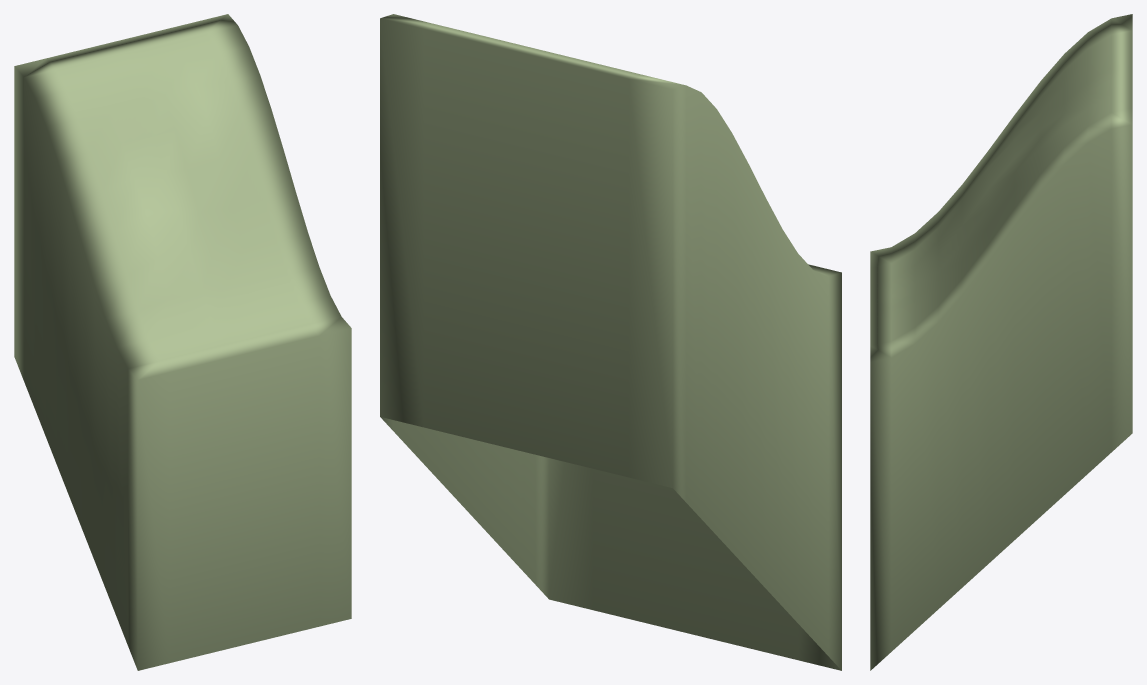
File: ground-ramp-01.glb
The picture shows the model from 3 angles, left to right: view 1: azimuth 30°, elevation 25°; view 2: azimuth 150°, elevation 25°; view 3: azimuth 270°, elevation 25°; orthographic projection. The views are drawn at different scales.
Visible parts, largest first — view 1: ground-ramp-01; view 2: ground-ramp-01; view 3: ground-ramp-01.
Part boxes in pixels (x1,y1,x2,y2): ground-ramp-01: [14, 14, 351, 670]; ground-ramp-01: [380, 14, 841, 670]; ground-ramp-01: [870, 14, 1132, 670].
Size of the model in its own units: 1 by 2.3 by 1.
